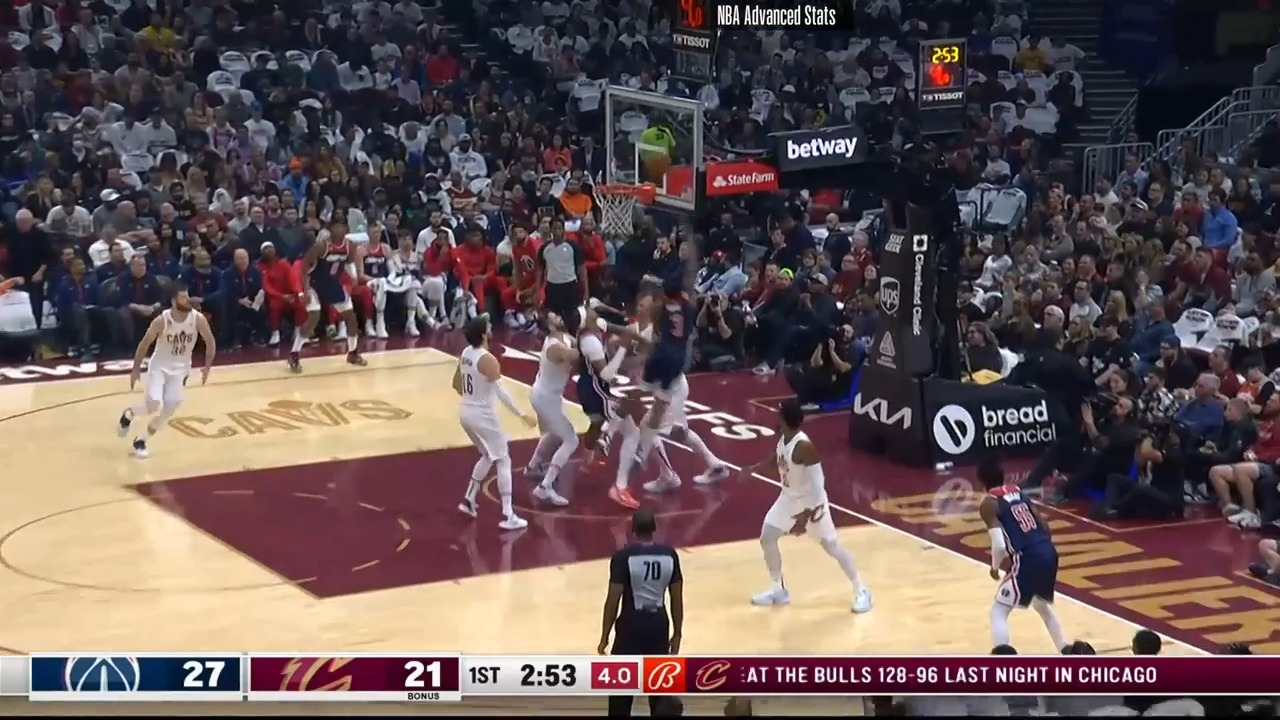net: (593, 177, 660, 240)
player: (745, 398, 874, 616), (596, 216, 702, 470), (956, 459, 1076, 656), (627, 293, 732, 494), (443, 318, 532, 530), (117, 290, 214, 466), (565, 304, 646, 507), (522, 309, 601, 508), (284, 219, 370, 375)
referee: (592, 511, 689, 660), (535, 218, 594, 350)
